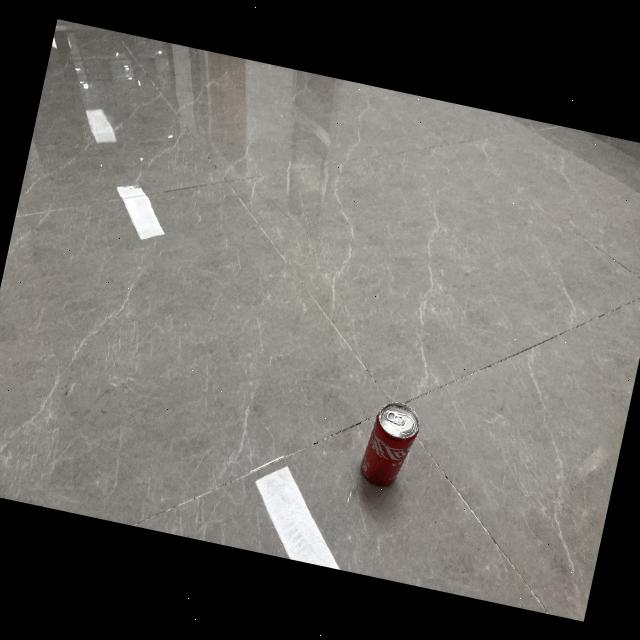Cola: (350, 394, 428, 498)
